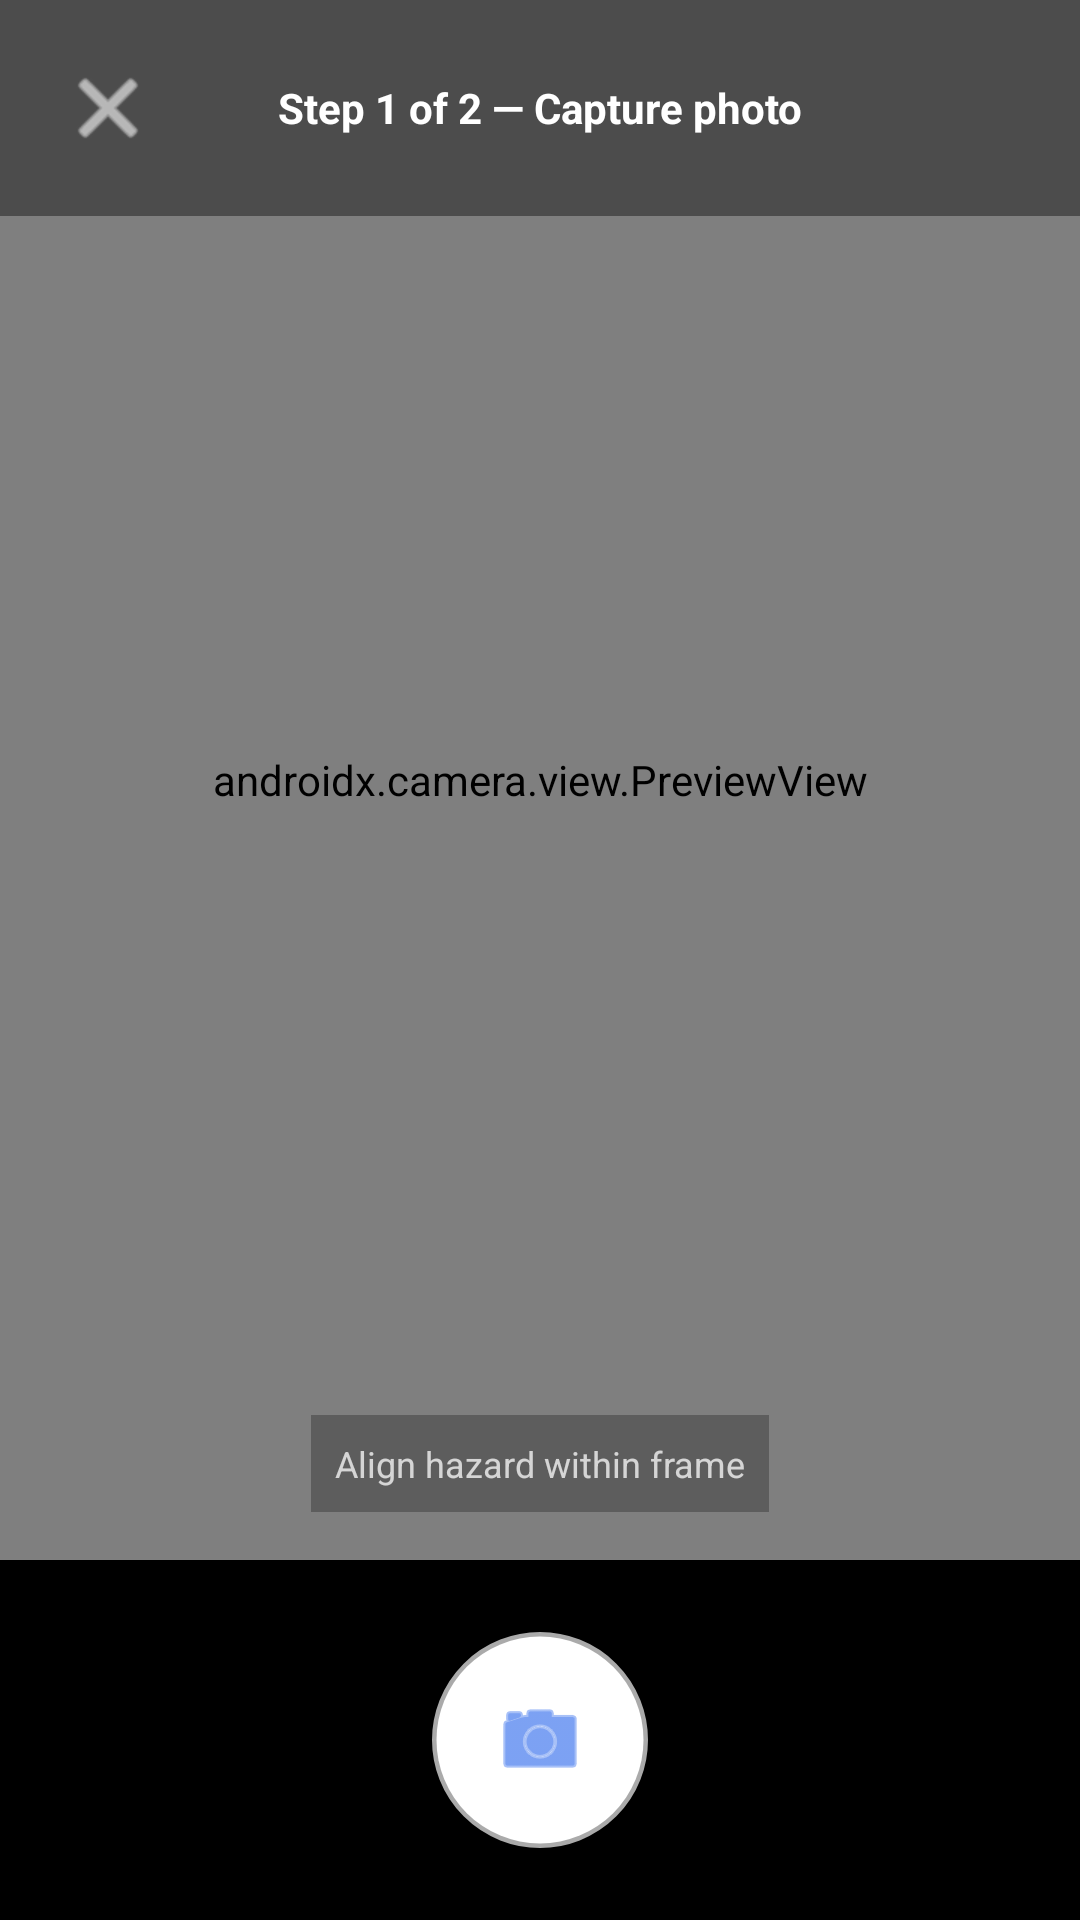

Icons on this 1080x1920 Android screen, each with the point to tap as point (x, y):
Capture photo: point (540, 1740)
Close: point (108, 108)
